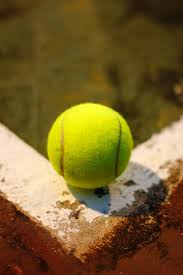tennis_ball: (47, 102, 133, 191)
